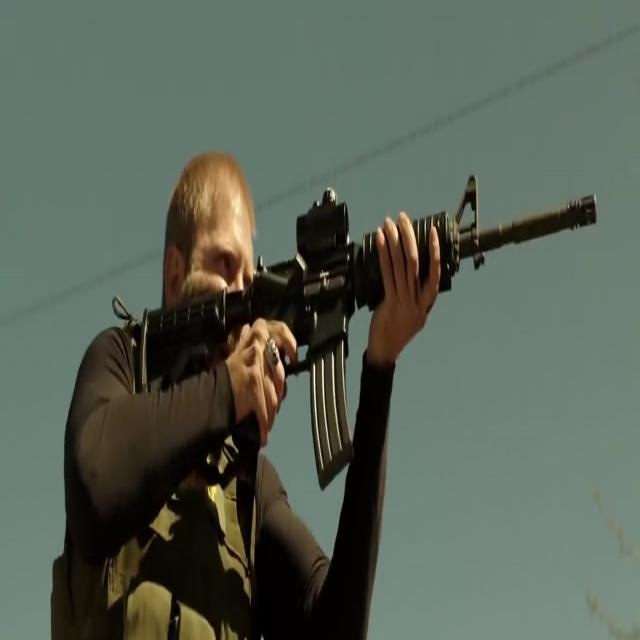Weapon: (124, 196, 626, 474)
